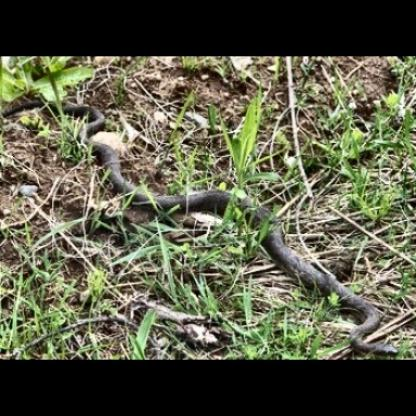Snake: (44, 105, 404, 359)
